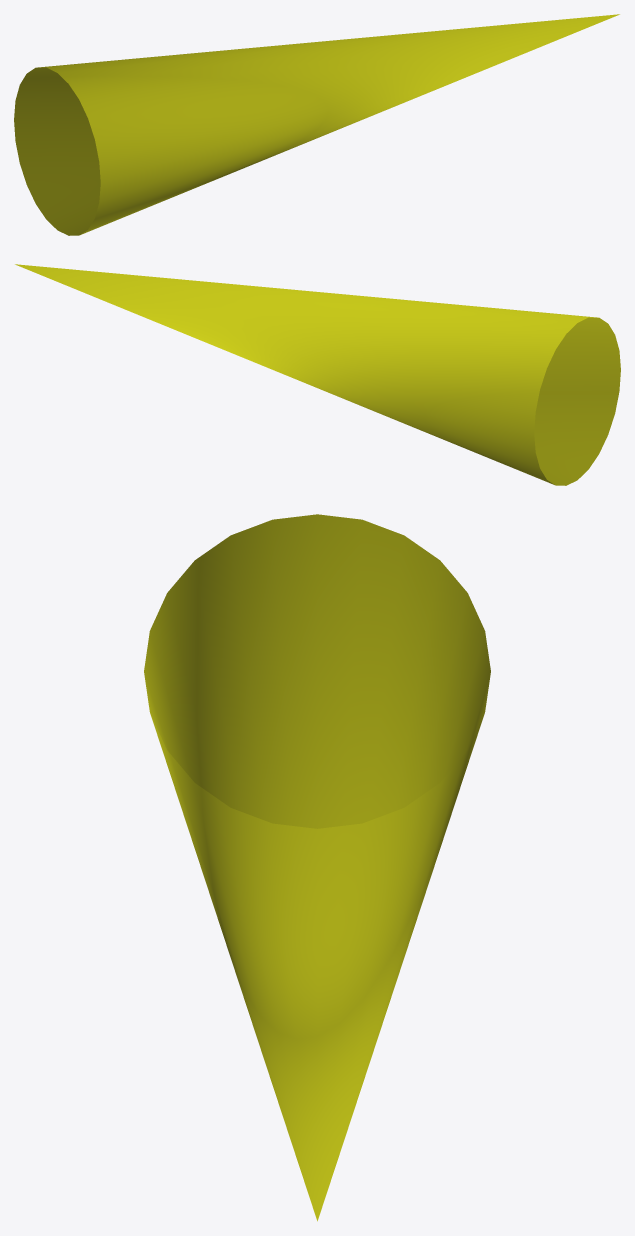
Rendered from bone_shapes.fbx.
3 renders of one model, top to bottom at view 1: azimuth 30°, elevation 25°; view 2: azimuth 150°, elevation 25°; view 3: azimuth 270°, elevation 25°, orthographic. The views are drawn at different scales.
Visible parts, largest first — view 1: b_aim_pitch, b_aim_yaw; view 2: b_aim_pitch, b_aim_yaw; view 3: b_aim_yaw, b_aim_pitch.
Part boxes in pixels (x1,y1,x2,y2): b_aim_pitch: (14, 14, 619, 235); b_aim_yaw: (14, 14, 619, 235); b_aim_pitch: (15, 264, 620, 485); b_aim_yaw: (16, 264, 620, 485); b_aim_yaw: (144, 514, 490, 1220); b_aim_pitch: (144, 514, 490, 1220).
Size of what is drawn, in the model's own units: 1500 by 400 by 400.
